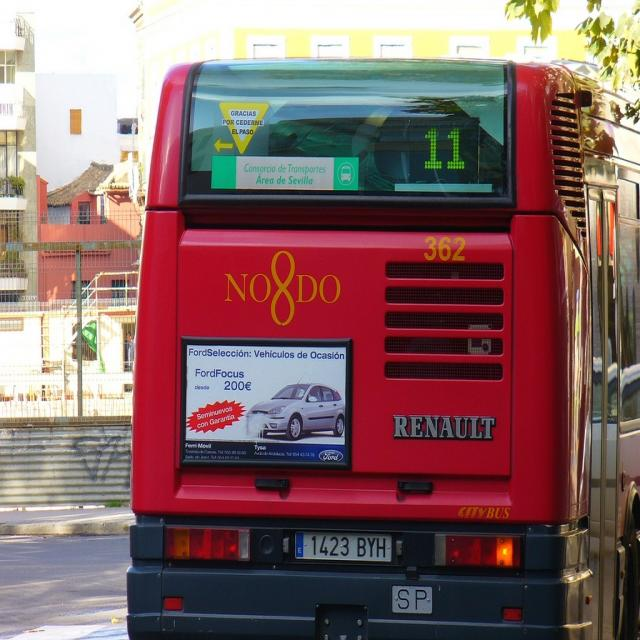other: (248, 382, 344, 439)
